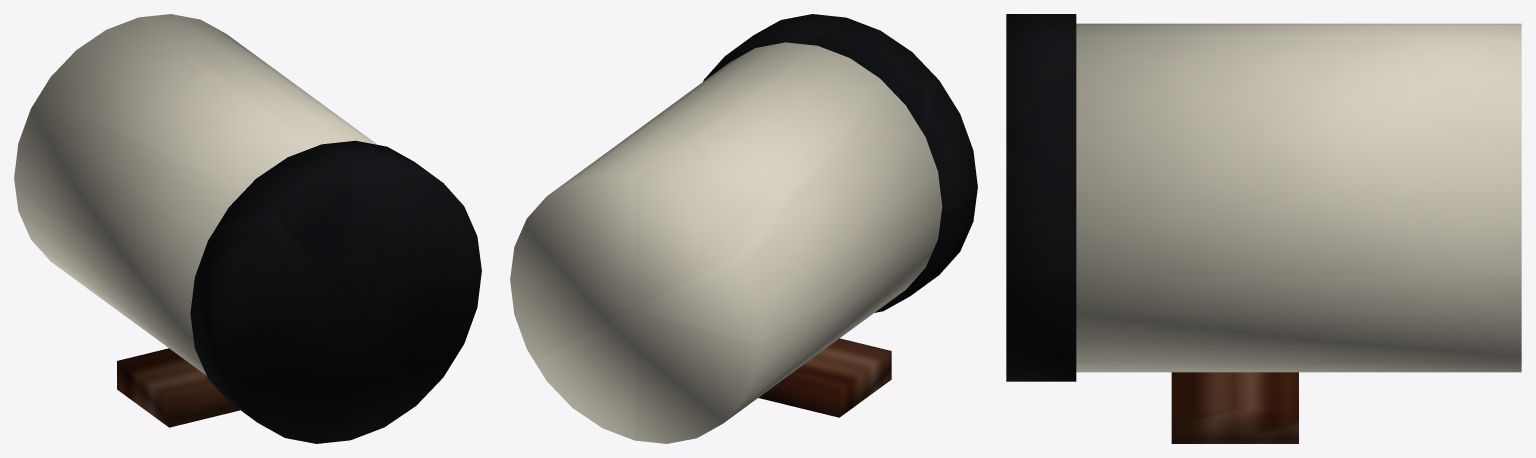
Rendered from COFFEE_TAKEOUT_001.glb.
3 views of the same model, side by side, from view 1: azimuth 30°, elevation 25°; view 2: azimuth 150°, elevation 25°; view 3: azimuth 270°, elevation 25° (orthographic). The views are drawn at different scales.
Visible parts, largest first — view 1: lid_001, paper_cup_000, sleeve_002; view 2: paper_cup_000, lid_001, sleeve_002; view 3: paper_cup_000, lid_001, sleeve_002.
Part boxes in pixels (left/top/right/bottom): lid_001: left=190, top=140, right=481, bottom=443; paper_cup_000: left=14, top=14, right=377, bottom=375; sleeve_002: left=117, top=348, right=239, bottom=427; paper_cup_000: left=510, top=42, right=942, bottom=443; lid_001: left=703, top=14, right=977, bottom=312; sleeve_002: left=758, top=338, right=891, bottom=417; paper_cup_000: left=1076, top=23, right=1521, bottom=372; lid_001: left=1006, top=14, right=1076, bottom=381; sleeve_002: left=1171, top=372, right=1298, bottom=443.
Bounding box in the file's own units: 0.116 × 0.12 × 0.162.
Materials: 3 (3 with a texture image).
